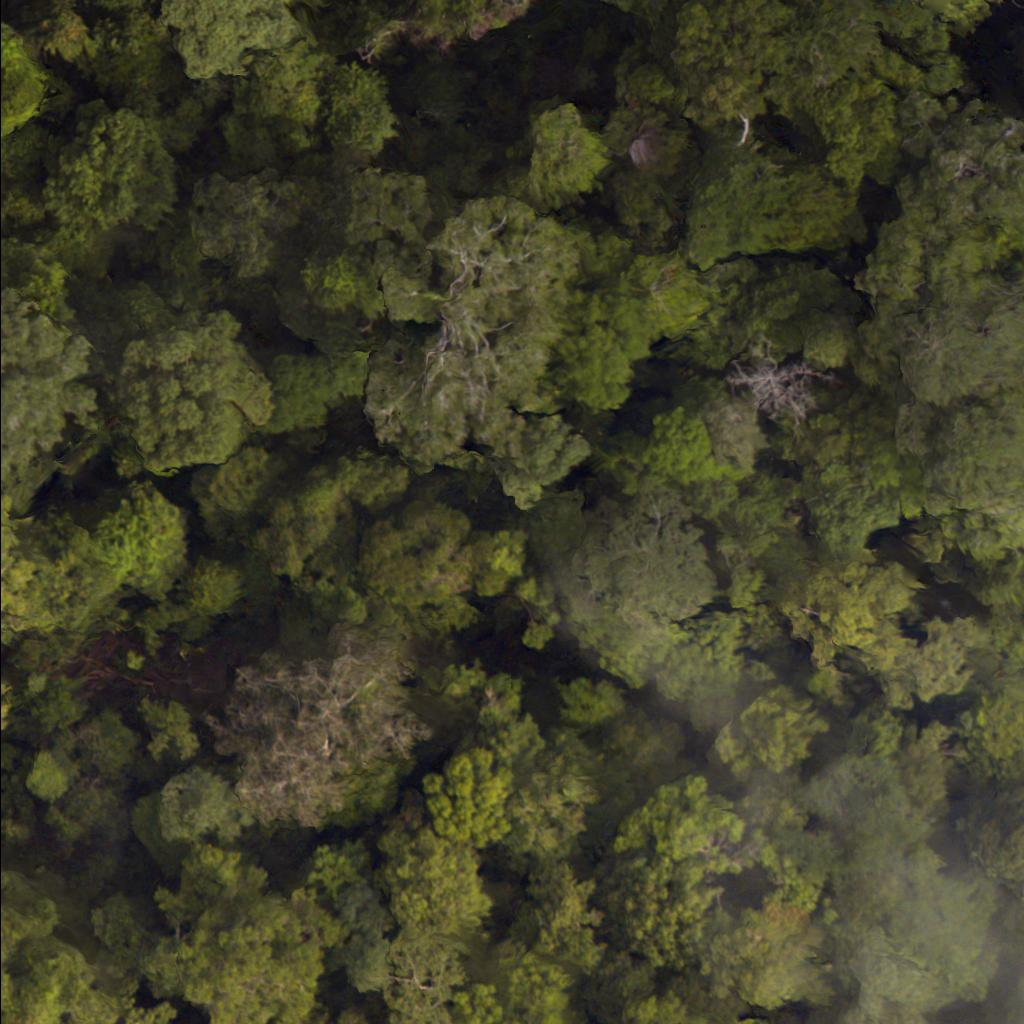crown: (341, 171, 578, 468), (109, 304, 275, 471), (0, 281, 103, 477), (42, 115, 174, 263), (780, 54, 918, 192), (889, 92, 1023, 226), (657, 0, 791, 129), (191, 166, 323, 285), (898, 281, 1023, 403), (541, 287, 651, 417), (678, 149, 792, 259), (161, 0, 300, 87), (280, 251, 386, 353), (725, 332, 839, 419), (611, 248, 711, 339), (526, 85, 595, 213), (791, 0, 887, 90), (317, 66, 390, 150), (0, 17, 47, 139), (643, 412, 714, 477), (702, 400, 767, 469), (589, 0, 693, 21)
